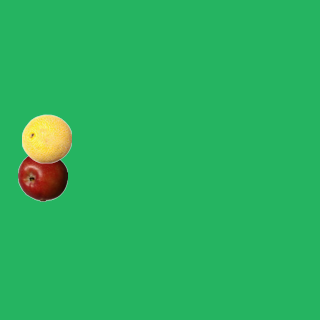Apple Braeburn: (17, 151, 67, 201)
Cantaloupe 1: (21, 113, 71, 163)
